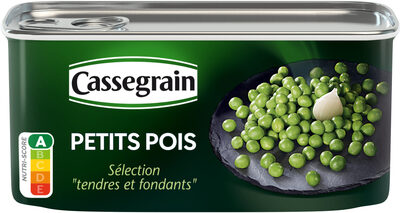Petits Pois 1/4: (20, 11, 380, 202)
